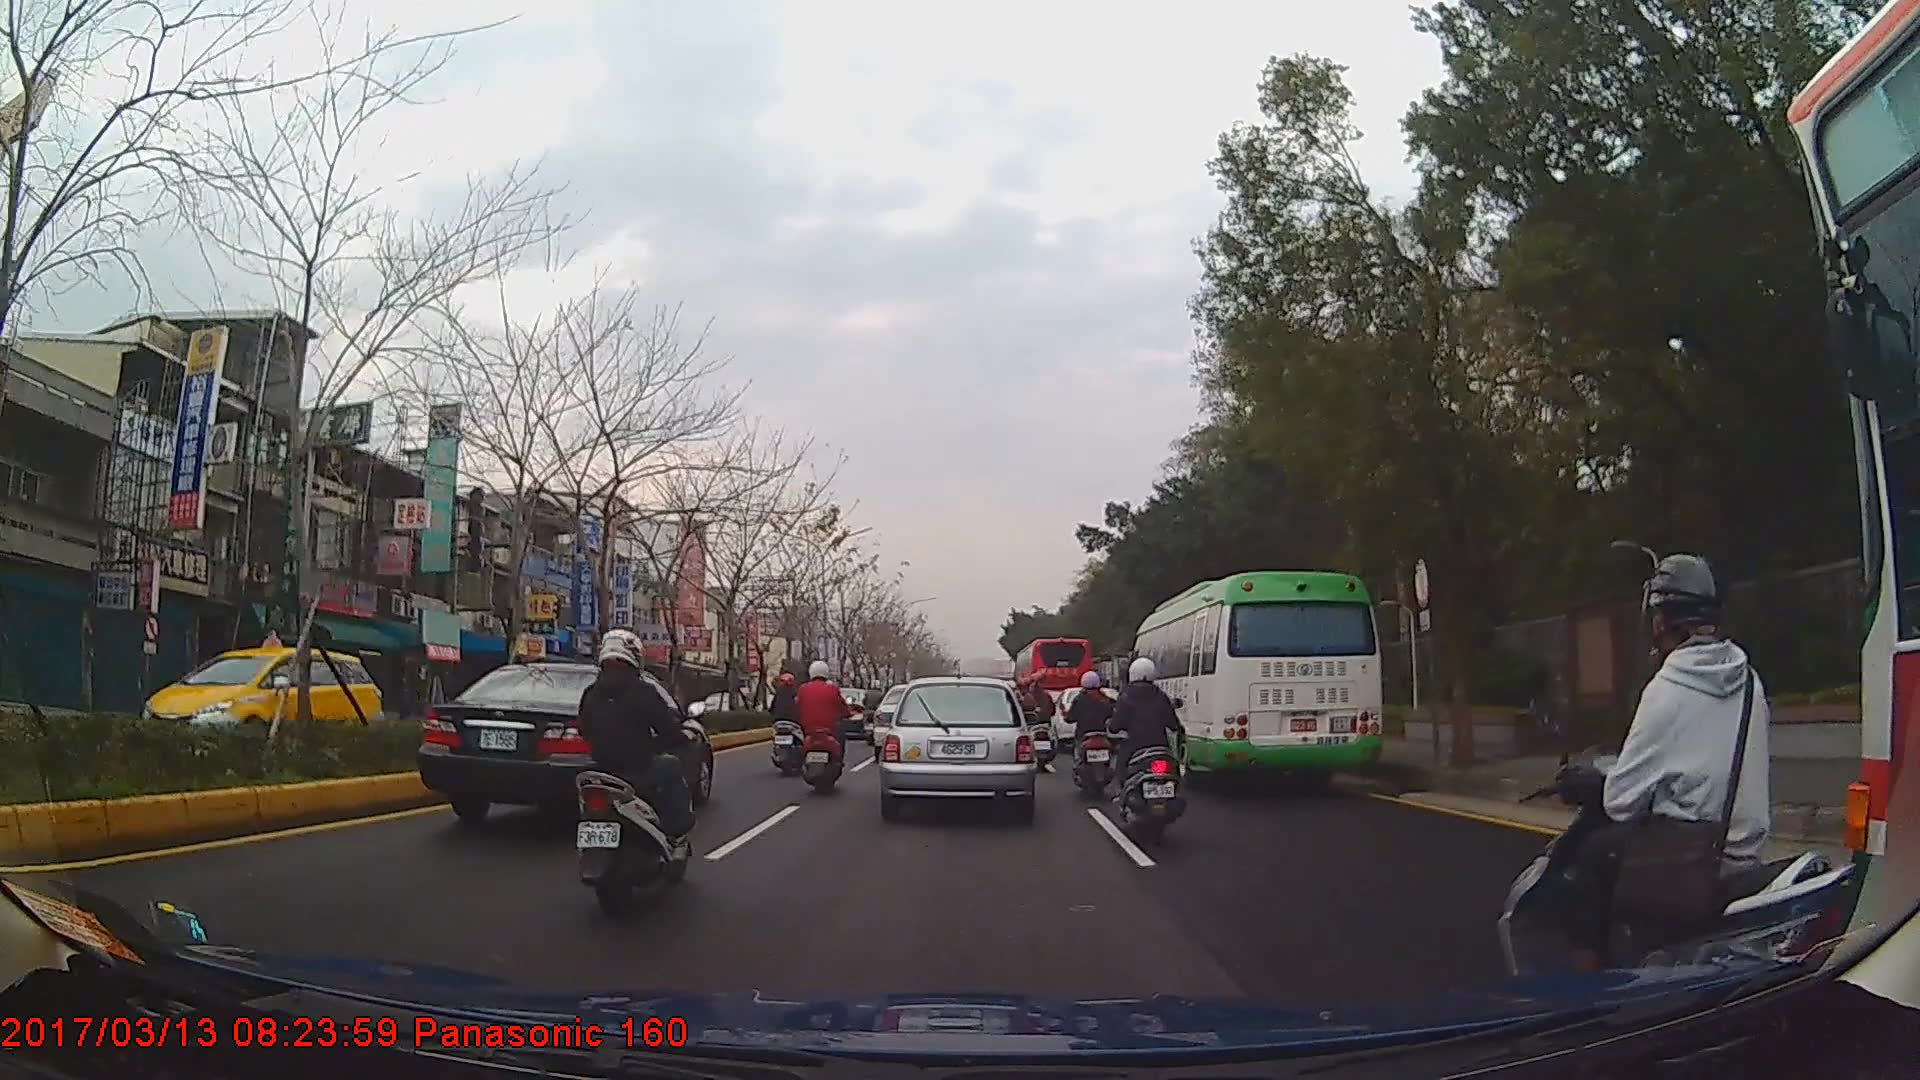rider: (1502, 551, 1855, 1009), (574, 627, 705, 914), (1112, 657, 1188, 840), (1064, 668, 1119, 801), (794, 660, 847, 798), (769, 673, 809, 777), (1016, 670, 1054, 772), (863, 680, 886, 745)
vehicle: (1124, 571, 1384, 797), (417, 660, 716, 834), (136, 627, 394, 770), (879, 676, 1033, 819), (1011, 631, 1095, 727)
